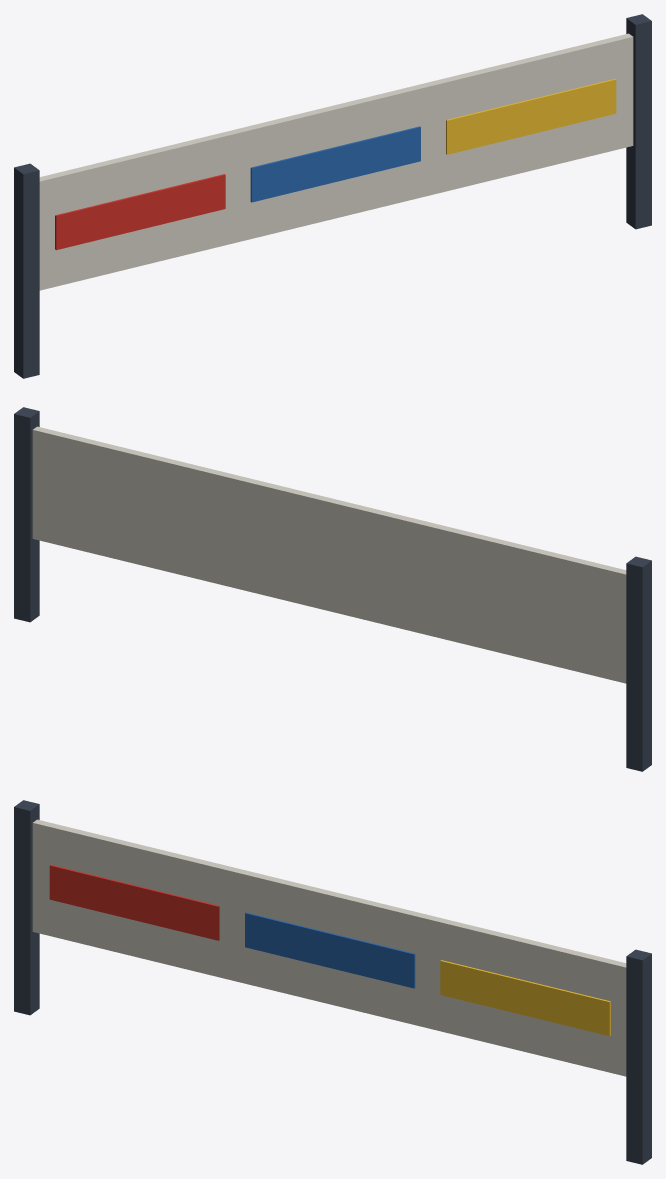
The model's file is banner.glb.
The picture shows the model from 3 angles, top to bottom: view 1: azimuth 30°, elevation 25°; view 2: azimuth 150°, elevation 25°; view 3: azimuth 330°, elevation 25°; orthographic projection.
Parts seen in each view (by area): view 1: banner_white, banner_steelDark, banner_red, banner_blue, banner_yellow; view 2: banner_white, banner_steelDark; view 3: banner_white, banner_steelDark, banner_yellow, banner_red, banner_blue.
Boxes of the visible parts, bbox=[...] form: banner_white: bbox=[39, 33, 633, 290]; banner_steelDark: bbox=[14, 14, 651, 378]; banner_red: bbox=[55, 174, 225, 250]; banner_blue: bbox=[250, 126, 420, 202]; banner_yellow: bbox=[446, 78, 616, 154]; banner_white: bbox=[32, 426, 626, 683]; banner_steelDark: bbox=[14, 407, 651, 771]; banner_white: bbox=[32, 819, 626, 1076]; banner_steelDark: bbox=[14, 800, 651, 1164]; banner_yellow: bbox=[440, 960, 610, 1036]; banner_red: bbox=[49, 864, 219, 940]; banner_blue: bbox=[245, 912, 415, 988].
Size of the model in its own units: 9.65 by 3 by 0.25.
